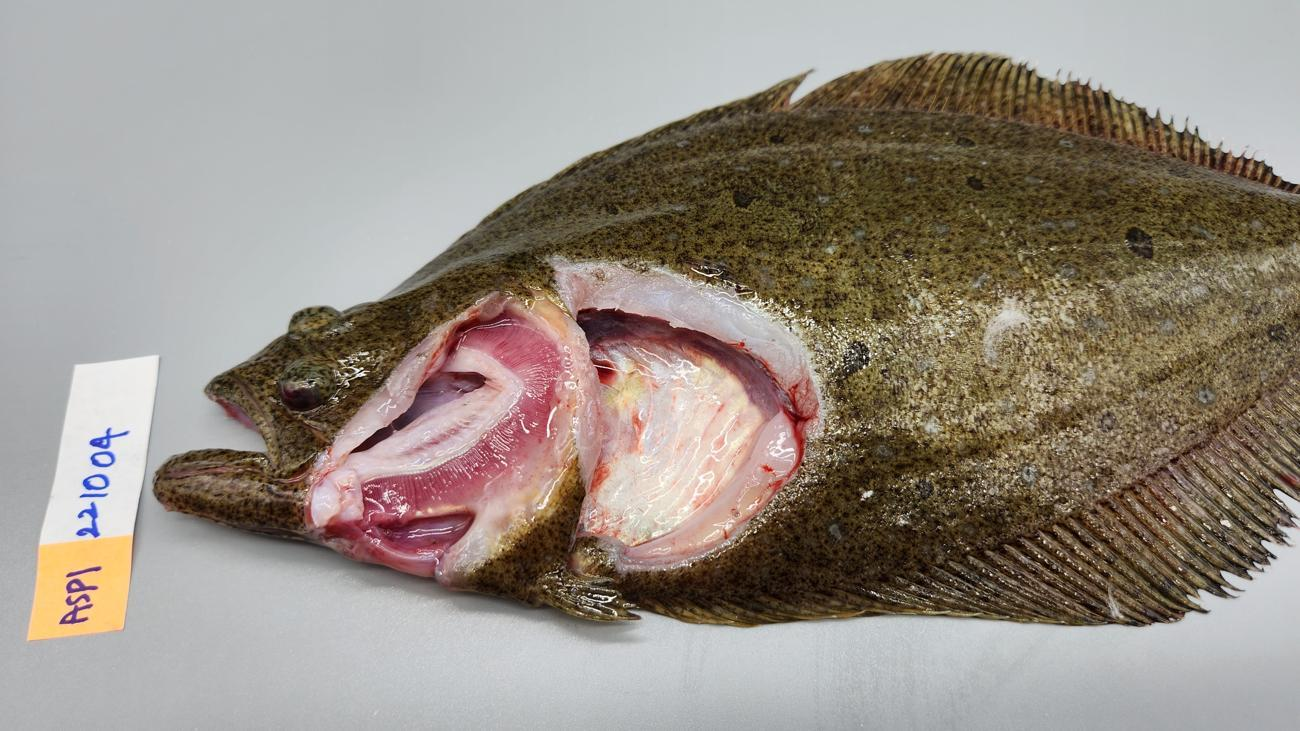SPASQ: (581, 356, 768, 548)
SPKIE: (578, 311, 780, 421)
